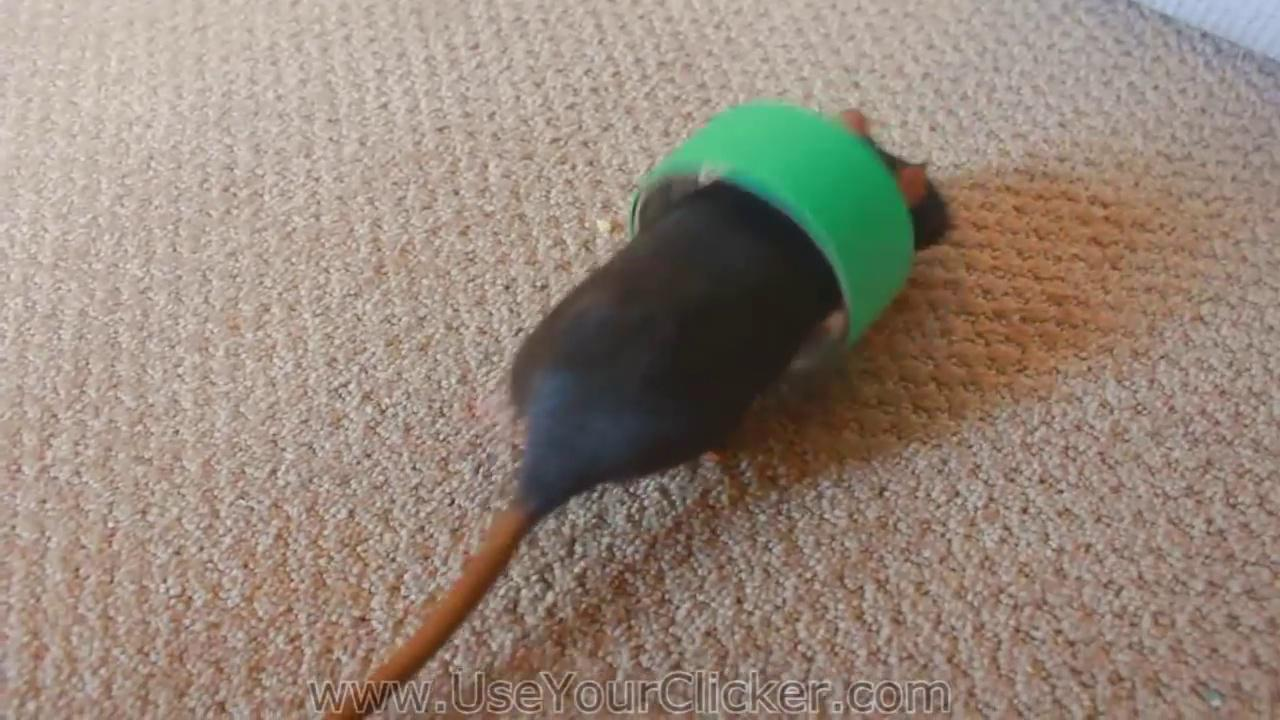rat: (330, 106, 946, 718)
